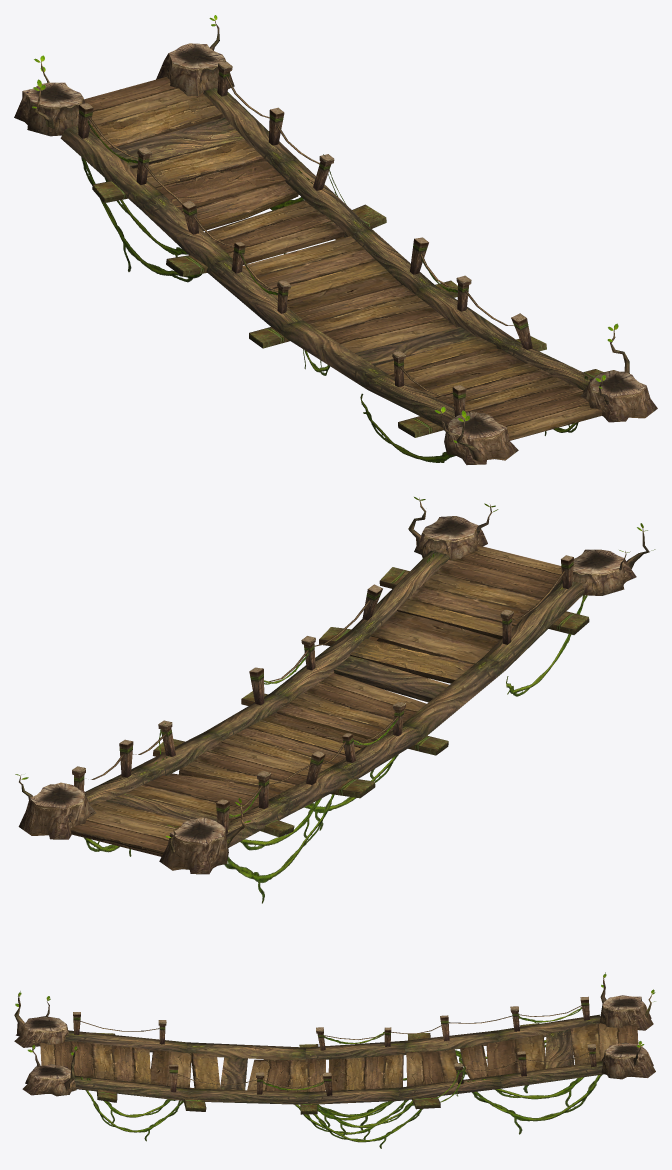
The model's file is S_Build_Village035.FBX.
The picture shows the model from 3 angles, top to bottom: view 1: azimuth 30°, elevation 25°; view 2: azimuth 150°, elevation 25°; view 3: azimuth 270°, elevation 25°; orthographic projection. The views are drawn at different scales.
Parts seen in each view (by area): view 1: S_Build_Village035; view 2: S_Build_Village035; view 3: S_Build_Village035.
Boxes of the visible parts, x1,y1,x2,y2 form: S_Build_Village035: (14, 15, 657, 464); S_Build_Village035: (15, 497, 655, 903); S_Build_Village035: (14, 972, 655, 1148).
Bounding box in the file's own units: 725 × 583 × 2619.
3 materials, 3 textured.
